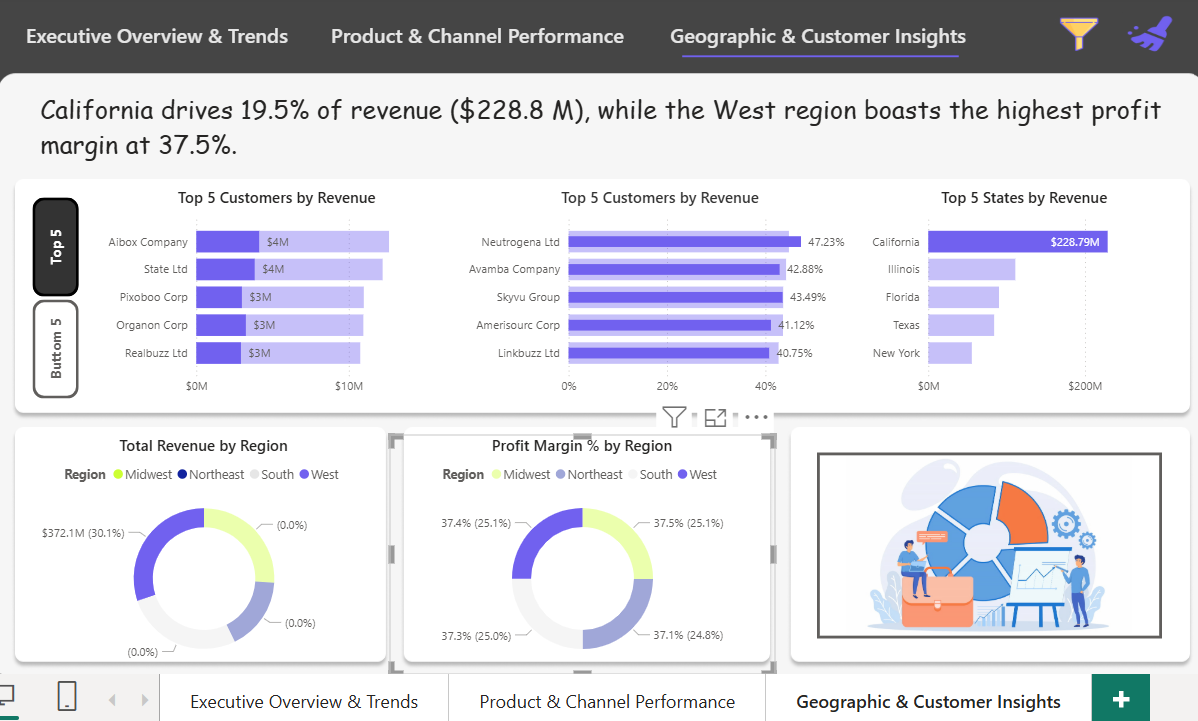

This screenshot's page, from the dashboard's own definition file:
{"tool":"powerbi","page":{"name":"Geographic & Customer Insights","canvas":[1280,720],"ordinal":2},"visuals":[{"type":"barChart","title":"Top 5 States by Revenue","fields":{"Category":["Sales_data.state_name"],"Y":["Measures_.Total Revenue"]},"box":[917,203.4,344.1,228.8],"z":0,"group":"g2"},{"type":"actionButton","box":[37,215,49,105],"z":0,"group":"g1"},{"type":"donutChart","title":"Total Revenue by Region","fields":{"Category":["Sales_data.us_region"],"Y":["Measures_.Total Revenue"]},"box":[20.3,466.1,394.9,254.2],"z":0},{"type":"barChart","title":"Top 5 Customers by Revenue","fields":{"Category":["Sales_data.customer_name"],"Y":["Measures_.Profit Margin %"]},"box":[486.5,203.4,430.5,228.8],"z":1000,"group":"g2"},{"type":"actionButton","box":[36.7,323.3,49,105],"z":1000,"group":"g1"},{"type":"donutChart","title":"Profit Margin % by Region","fields":{"Category":["Sales_data.us_region"],"Y":["Measures_.Profit Margin %"]},"box":[415.3,466.1,408.5,254.2],"z":1000},{"type":"actionButton","box":[337.2,14.1,342.3,55.1],"z":2000},{"type":"barChart","title":"Top 5 Customers by Revenue","fields":{"Category":["Sales_data.customer_name"],"Y":["Measures_.Total Revenue"]},"box":[105.1,203.4,381.4,228.8],"z":2000,"group":"g2"},{"type":"actionButton","box":[9,14.1,317.9,55.1],"z":3000},{"type":"actionButton","box":[702.6,14.1,333.3,55.1],"z":4000},{"type":"group","id":"g1","title":"top 5 button","box":[36.7,215,48.3,213.3],"z":6000},{"type":"group","id":"g2","title":"top 5","box":[105.1,203.4,1155.9,228.8],"z":9000},{"type":"textbox","title":"Top Text","box":[40,96.2,1222.5,120],"z":11000},{"type":"actionButton","box":[1188,14,70,55],"z":12000},{"type":"actionButton","box":[1120,21,53,42],"z":13000},{"type":"actionButton","box":[868.5,485.1,365.8,197.2],"z":14001},{"type":"image","box":[868.5,483.5,365.8,198.8],"z":14002}]}

Visuals, with their boxes on the page's 1280x720 design canvas (x1, y1, x2, y2). These are canvas units, not pixel positions in the 1198x721 screenshot, which may show the page scaled, cropped or inside an application window:
"Top 5 States by Revenue" barChart: bbox(917, 203, 1261, 432)
actionButton: bbox(37, 215, 86, 320)
"Total Revenue by Region" donutChart: bbox(20, 466, 415, 720)
"Top 5 Customers by Revenue" barChart: bbox(486, 203, 917, 432)
actionButton: bbox(37, 323, 86, 428)
"Profit Margin % by Region" donutChart: bbox(415, 466, 824, 720)
actionButton: bbox(337, 14, 680, 69)
"Top 5 Customers by Revenue" barChart: bbox(105, 203, 486, 432)
actionButton: bbox(9, 14, 327, 69)
actionButton: bbox(703, 14, 1036, 69)
"top 5 button" group: bbox(37, 215, 85, 428)
"top 5" group: bbox(105, 203, 1261, 432)
"Top Text" textbox: bbox(40, 96, 1262, 216)
actionButton: bbox(1188, 14, 1258, 69)
actionButton: bbox(1120, 21, 1173, 63)
actionButton: bbox(868, 485, 1234, 682)
image: bbox(868, 484, 1234, 682)
